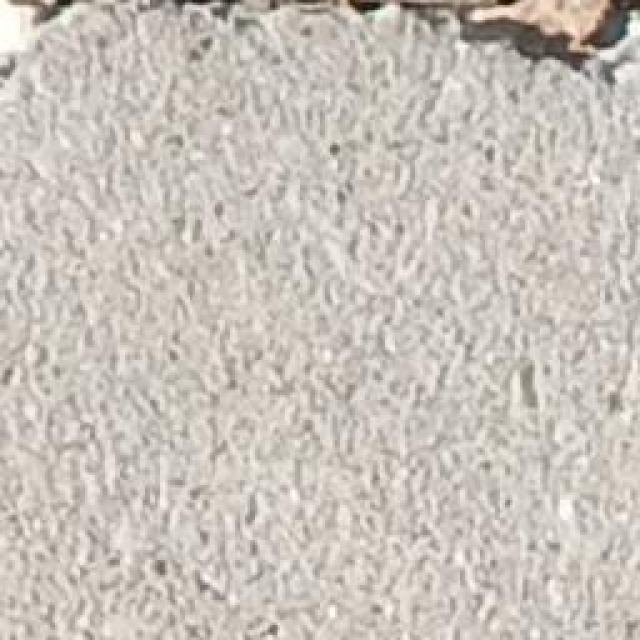concrete-crack: (0, 0, 640, 103)
